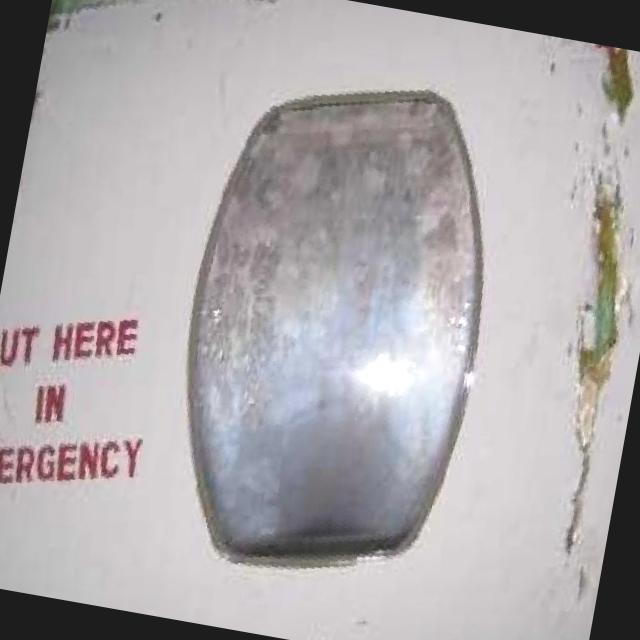crack: (531, 182, 640, 564)
